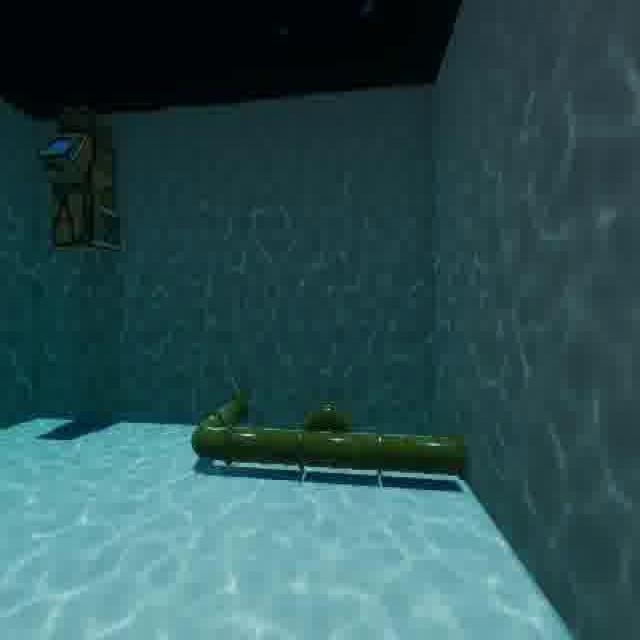Control Panel: (32, 113, 132, 257)
Pipe: (190, 382, 473, 484)
